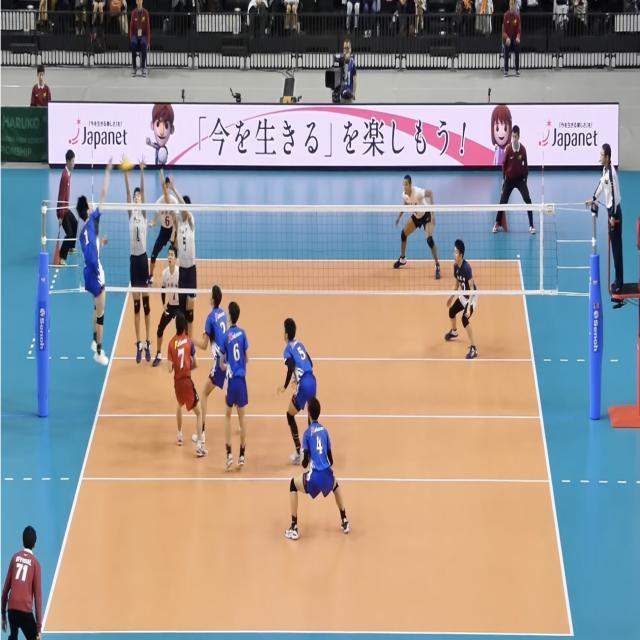spike: (74, 153, 119, 371)
